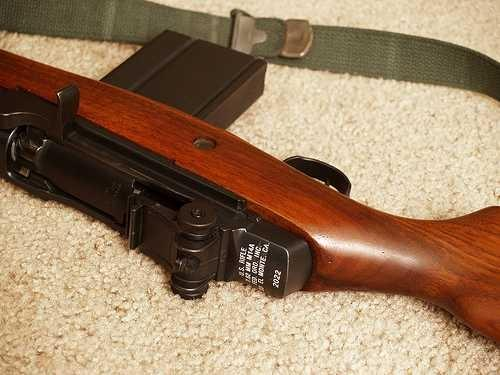heavyweapon: (0, 26, 414, 332)
